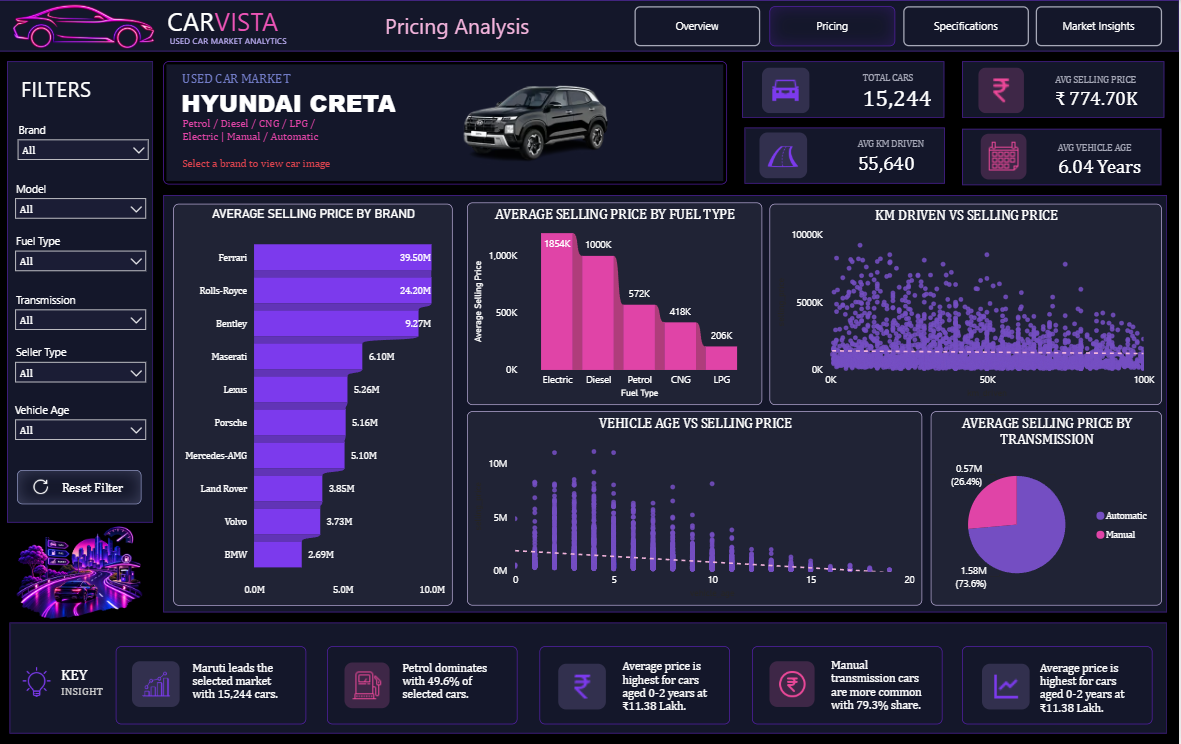

The dashboard page shown, as its layout file describes it:
{"tool":"powerbi","page":{"name":"Pricing Analysis","canvas":[1490,940],"ordinal":1},"visuals":[{"type":"shape","box":[0,0,1490,65],"z":0},{"type":"image","box":[29.7,834.1,40,50],"z":0,"group":"g9"},{"type":"group","id":"g1","title":"Group 1","box":[210,0,253.8,67.5],"z":1000},{"type":"textbox","box":[210,0,174.6,56.3],"z":1000,"group":"g1"},{"type":"textbox","box":[75.2,834.1,75.5,50.9],"z":1000,"group":"g9"},{"type":"textbox","box":[213,36,250.7,31],"z":2000,"group":"g1"},{"type":"shape","box":[12.9,77.1,184.3,581.4],"z":2000},{"type":"shape","box":[210,246,1265,526],"z":3000},{"type":"shape","box":[1216.2,162.5,251.2,71.2],"z":4000},{"type":"shape","box":[942.5,161.2,252.5,70.8],"z":5000},{"type":"shape","box":[15.7,785,1458.8,140],"z":6000},{"type":"shape","box":[1215.7,815,240,98.6],"z":7000},{"type":"shape","box":[950.7,815,240,98.6],"z":8000},{"type":"shape","box":[683.2,815,240,98.6],"z":9000},{"type":"shape","box":[415.7,813.8,240,98.6],"z":10000},{"type":"shape","box":[149.4,815,240,98.6],"z":11000},{"type":"actionButton","box":[803.2,7.4,158.3,50],"z":12000},{"type":"actionButton","box":[973.3,7.5,158.3,50],"z":13000},{"type":"actionButton","box":[1309.2,7.5,159.2,50],"z":14000},{"type":"actionButton","box":[1141.7,7.5,158.3,50],"z":15000},{"type":"textbox","box":[25,88.8,125,48.8],"z":16000},{"type":"group","id":"g2","title":"Group 2","box":[15,150,185,63.8],"z":17000},{"type":"group","id":"g3","title":"Group 2","box":[12.5,223,185,63],"z":18000},{"type":"group","id":"g4","title":"Group 2","box":[12.5,289.5,185,63],"z":19000},{"type":"group","id":"g5","title":"Group 2","box":[12.5,364.3,185,63],"z":20000},{"type":"group","id":"g6","title":"Group 2","box":[12.5,430.8,185,63],"z":21000},{"type":"group","id":"g7","title":"Group 2","box":[12.5,503,185,63.5],"z":22000},{"type":"shape","box":[210,77.5,710,155],"z":23000},{"type":"slicer","fields":{"Values":["cardekho_dataset.brand"]},"box":[15,165.9,185,47.5],"z":23000,"group":"g2"},{"type":"slicer","fields":{"Values":["cardekho_dataset.model"]},"box":[12.5,238.9,185,47.5],"z":23000,"group":"g3"},{"type":"slicer","fields":{"Values":["cardekho_dataset.fuel_type"]},"box":[12.5,305.4,185,47.5],"z":23000,"group":"g4"},{"type":"slicer","fields":{"Values":["cardekho_dataset.transmission_type"]},"box":[12.5,380.2,185,47.5],"z":23000,"group":"g5"},{"type":"slicer","fields":{"Values":["cardekho_dataset.seller_type"]},"box":[12.5,446.8,185,47],"z":23000,"group":"g6"},{"type":"slicer","fields":{"Values":["cardekho_dataset.Vehicle Age Group"]},"box":[12.5,519,185,47.5],"z":23000,"group":"g7"},{"type":"textbox","box":[21.8,150,85.7,30.7],"z":24000,"group":"g2"},{"type":"textbox","box":[19.3,223,85.7,30.7],"z":24000,"group":"g3"},{"type":"barChart","title":"AVERAGE SELLING PRICE BY BRAND","fields":{"Category":["cardekho_dataset.brand"],"Y":["cardekho_dataset.Average Selling Price"]},"box":[221.7,256.7,351.7,506.7],"z":24000},{"type":"textbox","box":[19.3,289.5,85.7,30.7],"z":24000,"group":"g4"},{"type":"textbox","box":[19.3,364.3,85.7,30.7],"z":24000,"group":"g5"},{"type":"textbox","box":[19.3,430.8,85.7,30.7],"z":24000,"group":"g6"},{"type":"textbox","box":[17.3,503,85.7,30.7],"z":24000,"group":"g7"},{"type":"scatterChart","title":"VEHICLE AGE VS SELLING PRICE","fields":{"Y":["cardekho_dataset.selling_price"],"X":["cardekho_dataset.vehicle_age"]},"box":[591.7,518.3,573.3,245],"z":25000},{"type":"shape","box":[25.7,592.9,157,42.9],"z":25000,"group":"g8"},{"type":"columnChart","title":"AVERAGE SELLING PRICE BY FUEL TYPE","fields":{"Category":["cardekho_dataset.fuel_type"],"Y":["cardekho_dataset.Average Selling Price"]},"box":[591.7,255,371.7,255],"z":26000},{"type":"scatterChart","title":"KM DRIVEN VS SELLING PRICE","fields":{"X":["cardekho_dataset.km_driven"],"Y":["cardekho_dataset.selling_price"]},"box":[973.3,256.7,494.4,253.3],"z":27000},{"type":"shape","box":[939.5,77.5,255,71.2],"z":28000},{"type":"shape","box":[1215.8,77.5,255,71.2],"z":29000},{"type":"textbox","box":[228.8,85,173.8,38.8],"z":30000},{"type":"cardVisual","fields":{"Data":["cardekho_dataset.Total Cars"]},"box":[1062,67.5,170,96.2],"z":31000},{"type":"image","box":[963.3,85,60,57.5],"z":32000},{"type":"image","box":[1240,168.8,57.5,57.5],"z":33000},{"type":"image","box":[961.2,167.5,60,57.5],"z":34000},{"type":"image","box":[1235.8,85,57.5,57.5],"z":35000},{"type":"cardVisual","fields":{"Data":["cardekho_dataset.Average Selling Price"]},"box":[1303.5,67.2,170,95.6],"z":36000},{"type":"cardVisual","fields":{"Data":["cardekho_dataset.Average Vehicle Age"]},"box":[1307.5,155,170,95],"z":37000},{"type":"cardVisual","fields":{"Data":["cardekho_dataset.Average KM Driven"]},"box":[1055,150,153.7,95],"z":38000},{"type":"image","box":[435,85,485,147.5],"z":39000},{"type":"cardVisual","fields":{"Data":["Car_Images.Hero Car Name"]},"box":[203.8,93.8,415,67.5],"z":40000},{"type":"cardVisual","fields":{"Data":["Car_Images.Hero Subtitle"]},"box":[228.8,140,221.2,63.8],"z":41000},{"type":"cardVisual","fields":{"Data":["Car_Images.Car Image Status"]},"box":[228.8,191.2,221.2,75],"z":42000},{"type":"group","id":"g8","title":"Group 3","box":[25.7,592.9,157,43.3],"z":43000},{"type":"image","box":[169.4,833.8,60,57.5],"z":44000},{"type":"image","box":[438.2,835,57,57.8],"z":45000},{"type":"image","box":[707.9,835.8,60,57.8],"z":46000},{"type":"image","box":[973.2,833.8,57,57.8],"z":47000},{"type":"image","box":[1240.7,836.3,60,57.8],"z":48000},{"type":"cardVisual","fields":{"Data":["Car_Images.Insight Brand"]},"box":[240.3,825.4,138,87.8],"z":49000},{"type":"cardVisual","fields":{"Data":["Car_Images.Insight Fuel"]},"box":[506,825.4,134.5,86.6],"z":50000},{"type":"cardVisual","fields":{"Data":["Car_Images.Insight Price"]},"box":[783,824.3,138,111.7],"z":51000},{"type":"cardVisual","fields":{"Data":["Car_Images.Insight Transmission"]},"box":[1045.3,822,135.7,114],"z":52000},{"type":"group","id":"g9","title":"Group 4","box":[29.7,834.1,120.9,50.9],"z":53000},{"type":"image","box":[33.8,593.1,43.8,43.1],"z":53010,"group":"g8"},{"type":"pieChart","title":"AVERAGE SELLING PRICE BY TRANSMISSION","fields":{"Category":["cardekho_dataset.transmission_type"],"Y":["cardekho_dataset.Average Selling Price"]},"box":[1176.7,518.9,291.1,244.4],"z":54000},{"type":"cardVisual","fields":{"Data":["cardekho_dataset.Pricing Insight Age"]},"box":[1308.3,825,135,100],"z":55000},{"type":"image","box":[0,0,218.3,65],"z":56000},{"type":"textbox","box":[450,10,258.6,50],"z":57000},{"type":"image","box":[12.6,658.4,184.3,126],"z":57001}]}

Visuals, with their boxes in screenshot pixels (x1, y1, x2, y2), scaled from the page's 1490x940 canvas onto the 1181x744 screenshot:
shape: <region>0, 0, 1180, 51</region>
image: <region>24, 660, 55, 700</region>
"Group 1" group: <region>166, 0, 368, 53</region>
textbox: <region>166, 0, 305, 45</region>
textbox: <region>60, 660, 119, 700</region>
textbox: <region>169, 28, 368, 53</region>
shape: <region>10, 61, 156, 521</region>
shape: <region>166, 195, 1169, 611</region>
shape: <region>964, 129, 1163, 185</region>
shape: <region>747, 128, 947, 184</region>
shape: <region>12, 621, 1169, 732</region>
shape: <region>964, 645, 1154, 723</region>
shape: <region>754, 645, 944, 723</region>
shape: <region>542, 645, 732, 723</region>
shape: <region>329, 644, 520, 722</region>
shape: <region>118, 645, 309, 723</region>
actionButton: <region>637, 6, 762, 45</region>
actionButton: <region>771, 6, 897, 46</region>
actionButton: <region>1038, 6, 1164, 46</region>
actionButton: <region>905, 6, 1030, 46</region>
textbox: <region>20, 70, 119, 109</region>
"Group 2" group: <region>12, 119, 159, 169</region>
"Group 2" group: <region>10, 177, 157, 226</region>
"Group 2" group: <region>10, 229, 157, 279</region>
"Group 2" group: <region>10, 288, 157, 338</region>
"Group 2" group: <region>10, 341, 157, 391</region>
"Group 2" group: <region>10, 398, 157, 448</region>
shape: <region>166, 61, 729, 184</region>
slicer - cardekho_dataset.brand: <region>12, 131, 159, 169</region>
slicer - cardekho_dataset.model: <region>10, 189, 157, 227</region>
slicer - cardekho_dataset.fuel_type: <region>10, 242, 157, 279</region>
slicer - cardekho_dataset.transmission_type: <region>10, 301, 157, 339</region>
slicer - cardekho_dataset.seller_type: <region>10, 354, 157, 391</region>
slicer - cardekho_dataset.Vehicle Age Group: <region>10, 411, 157, 448</region>
textbox: <region>17, 119, 85, 143</region>
textbox: <region>15, 177, 83, 201</region>
"AVERAGE SELLING PRICE BY BRAND" barChart: <region>176, 203, 454, 604</region>
textbox: <region>15, 229, 83, 253</region>
textbox: <region>15, 288, 83, 313</region>
textbox: <region>15, 341, 83, 365</region>
textbox: <region>14, 398, 82, 422</region>
"VEHICLE AGE VS SELLING PRICE" scatterChart: <region>469, 410, 923, 604</region>
shape: <region>20, 469, 145, 503</region>
"AVERAGE SELLING PRICE BY FUEL TYPE" columnChart: <region>469, 202, 764, 404</region>
"KM DRIVEN VS SELLING PRICE" scatterChart: <region>771, 203, 1163, 404</region>
shape: <region>745, 61, 947, 118</region>
shape: <region>964, 61, 1166, 118</region>
textbox: <region>181, 67, 319, 98</region>
cardVisual - cardekho_dataset.Total Cars: <region>842, 53, 977, 130</region>
image: <region>764, 67, 811, 113</region>
image: <region>983, 134, 1028, 179</region>
image: <region>762, 133, 809, 178</region>
image: <region>980, 67, 1025, 113</region>
cardVisual - cardekho_dataset.Average Selling Price: <region>1033, 53, 1168, 129</region>
cardVisual - cardekho_dataset.Average Vehicle Age: <region>1036, 123, 1171, 198</region>
cardVisual - cardekho_dataset.Average KM Driven: <region>836, 119, 958, 194</region>
image: <region>345, 67, 729, 184</region>
cardVisual - Car_Images.Hero Car Name: <region>162, 74, 490, 128</region>
cardVisual - Car_Images.Hero Subtitle: <region>181, 111, 357, 161</region>
cardVisual - Car_Images.Car Image Status: <region>181, 151, 357, 211</region>
"Group 3" group: <region>20, 469, 145, 504</region>
image: <region>134, 660, 182, 705</region>
image: <region>347, 661, 393, 707</region>
image: <region>561, 662, 609, 707</region>
image: <region>771, 660, 817, 706</region>
image: <region>983, 662, 1031, 708</region>
cardVisual - Car_Images.Insight Brand: <region>190, 653, 300, 723</region>
cardVisual - Car_Images.Insight Fuel: <region>401, 653, 508, 722</region>
cardVisual - Car_Images.Insight Price: <region>621, 652, 730, 741</region>
cardVisual - Car_Images.Insight Transmission: <region>829, 651, 936, 741</region>
"Group 4" group: <region>24, 660, 119, 700</region>
image: <region>27, 469, 62, 504</region>
"AVERAGE SELLING PRICE BY TRANSMISSION" pieChart: <region>933, 411, 1163, 604</region>
cardVisual - cardekho_dataset.Pricing Insight Age: <region>1037, 653, 1144, 732</region>
image: <region>0, 0, 173, 51</region>
textbox: <region>357, 8, 562, 47</region>
image: <region>10, 521, 156, 621</region>
